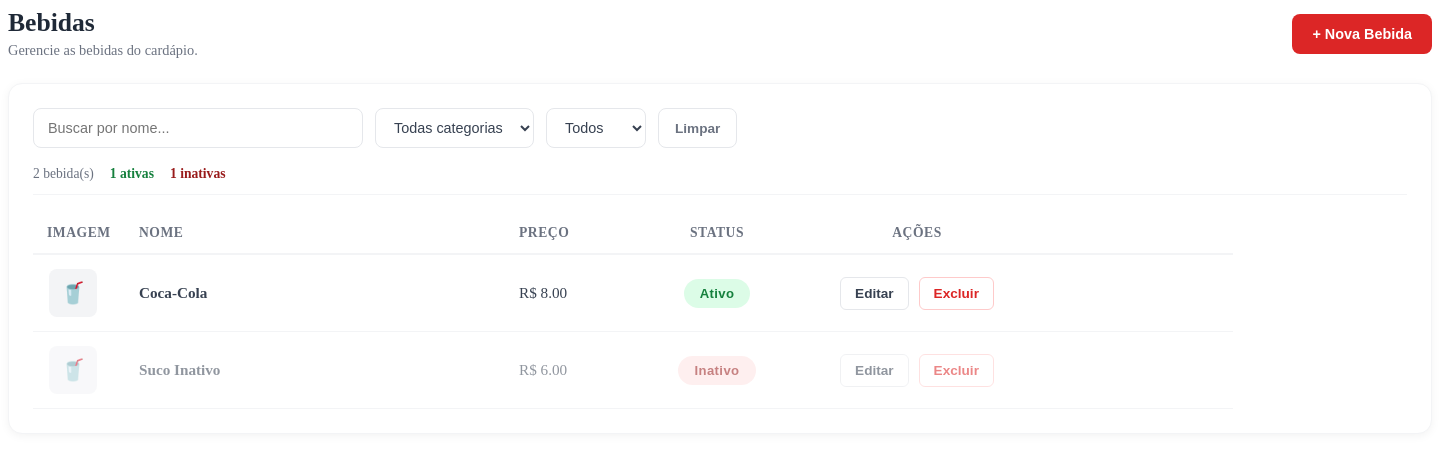
Test: AdminBebidas › filtra por nome
This screenshot has width=1440, height=451.
Expected: the text "Coca-Cola" is shown, [117, 254, 497, 332]
Type "suco" into the field with placeholder "Buscar por nome..." at coordinates (198, 128), box [33, 108, 363, 148]
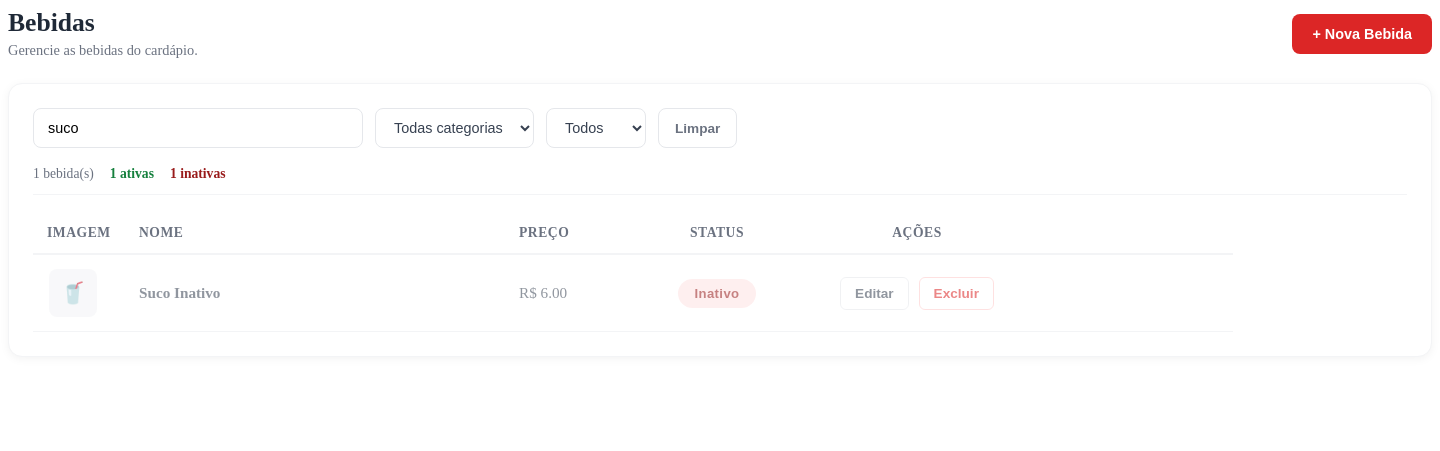
Expected: the text "Suco Inativo" is shown, [117, 254, 497, 332]
Result: the text "Coca-Cola" is gone
